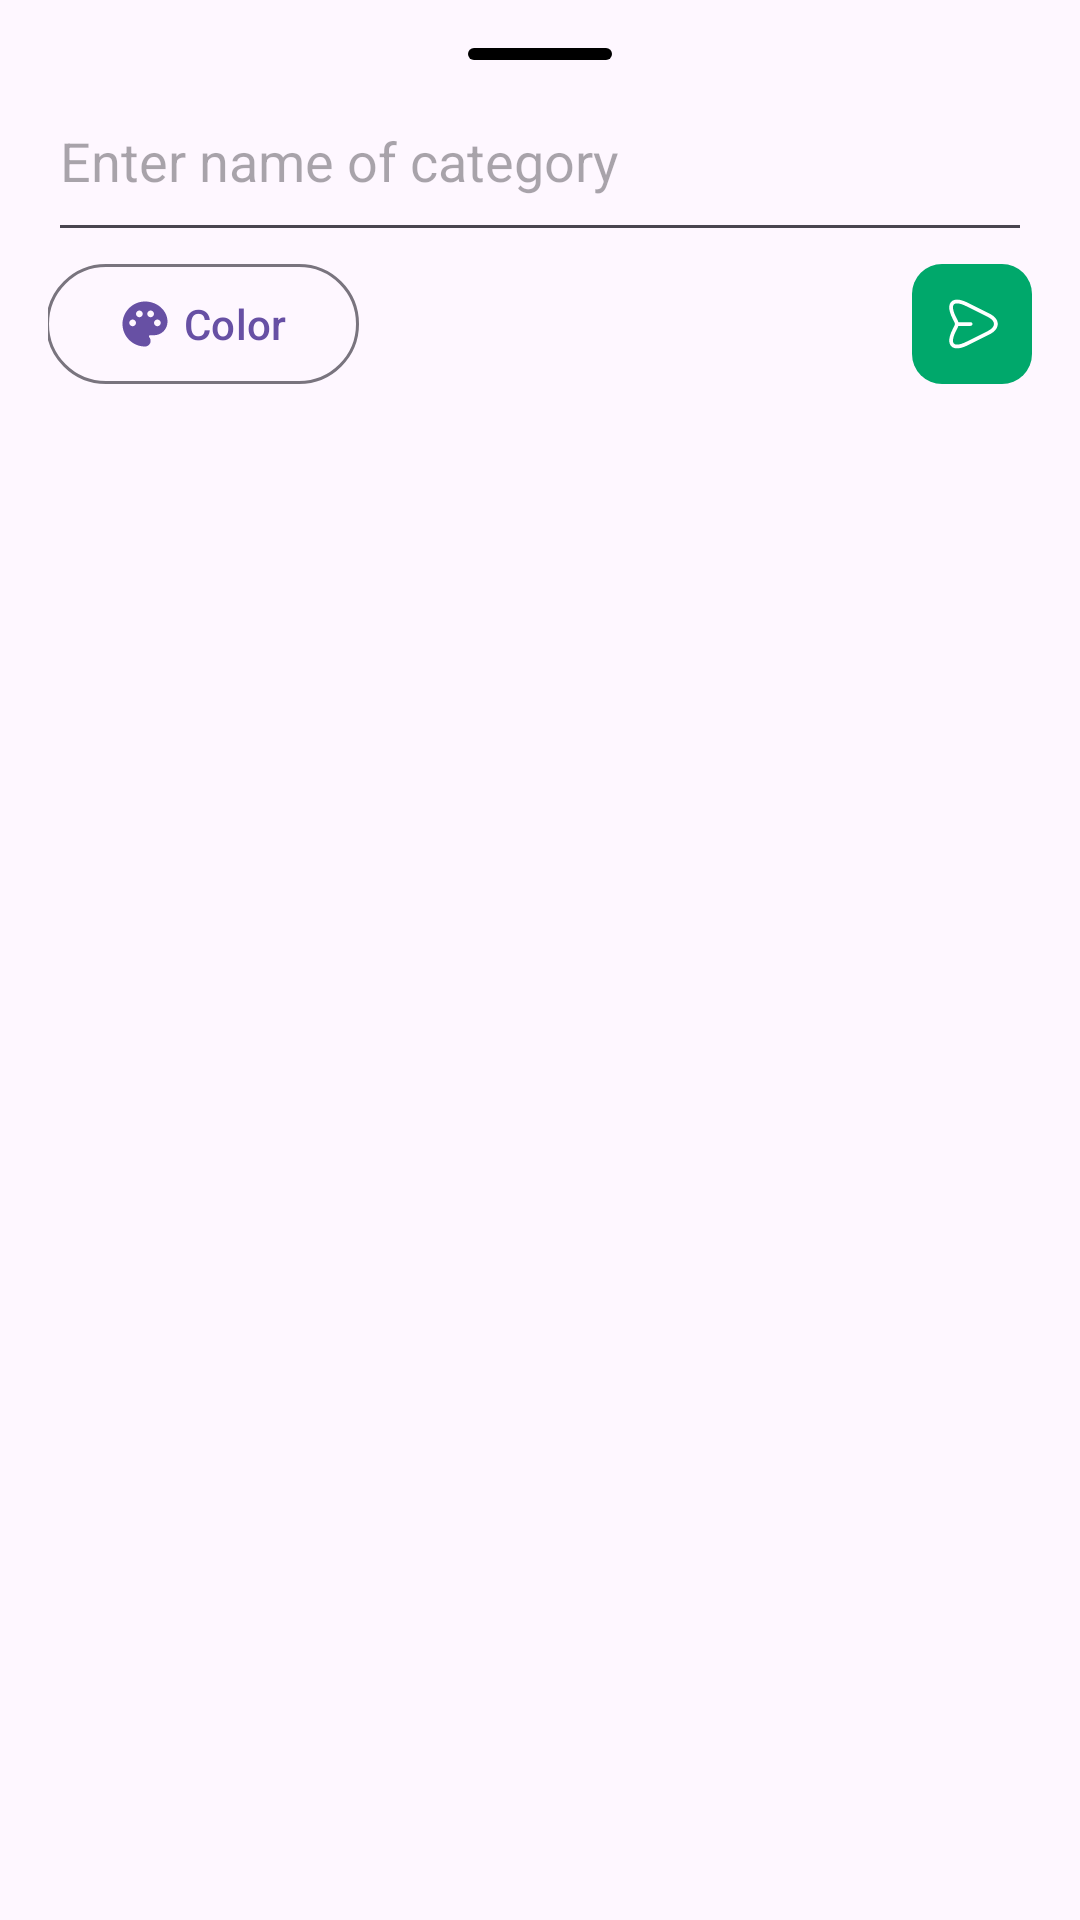

Named icons in this screenshot (1080 × 1920) and their bounding boxes, {"x1": x1, "y1": y1, "x2": x2, "y2": y2}:
confirm: {"x1": 912, "y1": 264, "x2": 1032, "y2": 384}
